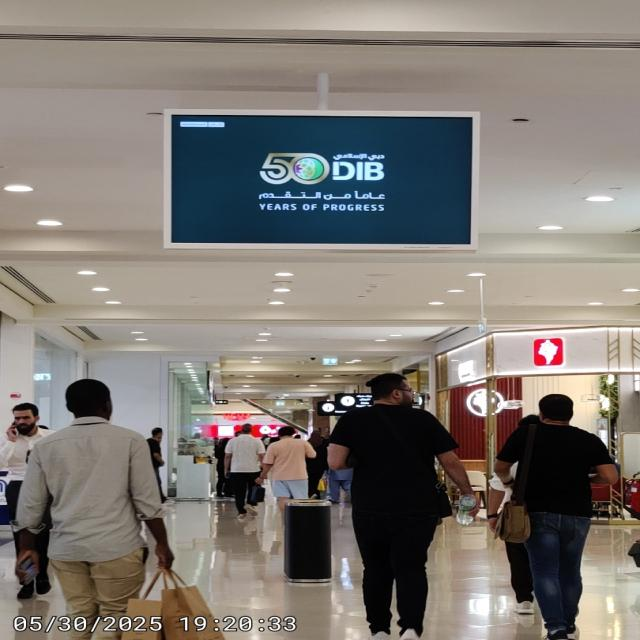digital-board: (163, 114, 484, 248)
